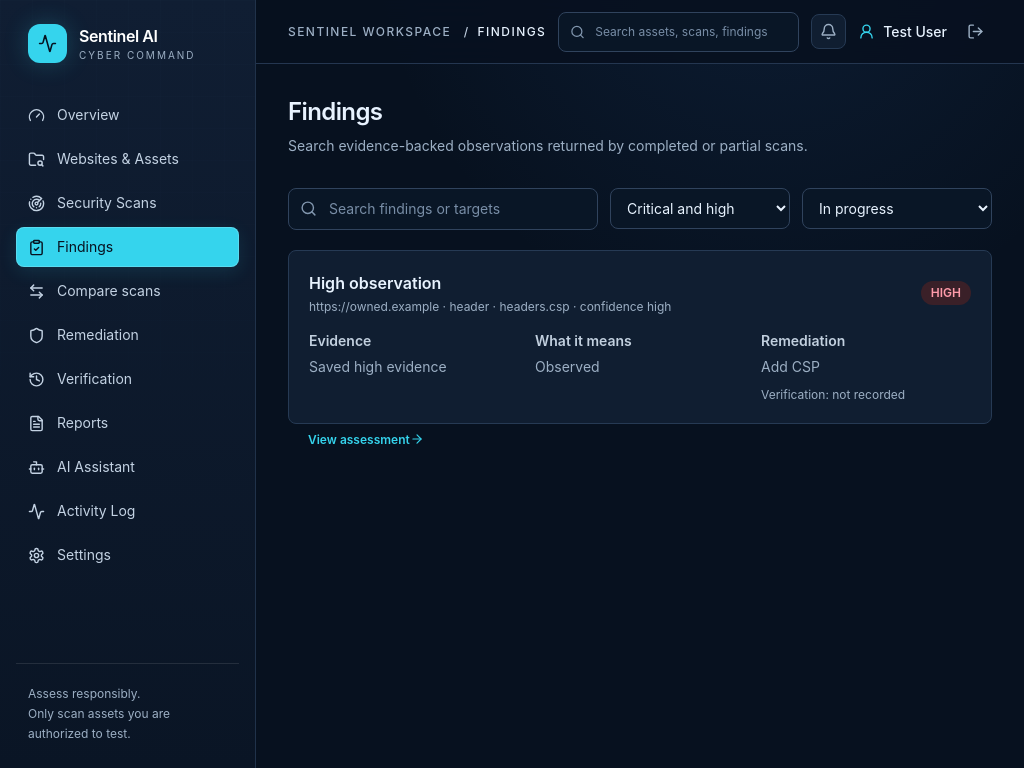
Test: Sentinel AI application shell › applies deep-linked severity and finding lifecycle filters to persisted findings
expect the text "High observation" is shown: met, box x1=309 y1=273 x2=441 y2=293
expect the text "Critical observation" is not shown: met
Select "Open" in the dropdown named "Filter finding status" at (897, 208), box x1=802 y1=188 x2=992 y2=229
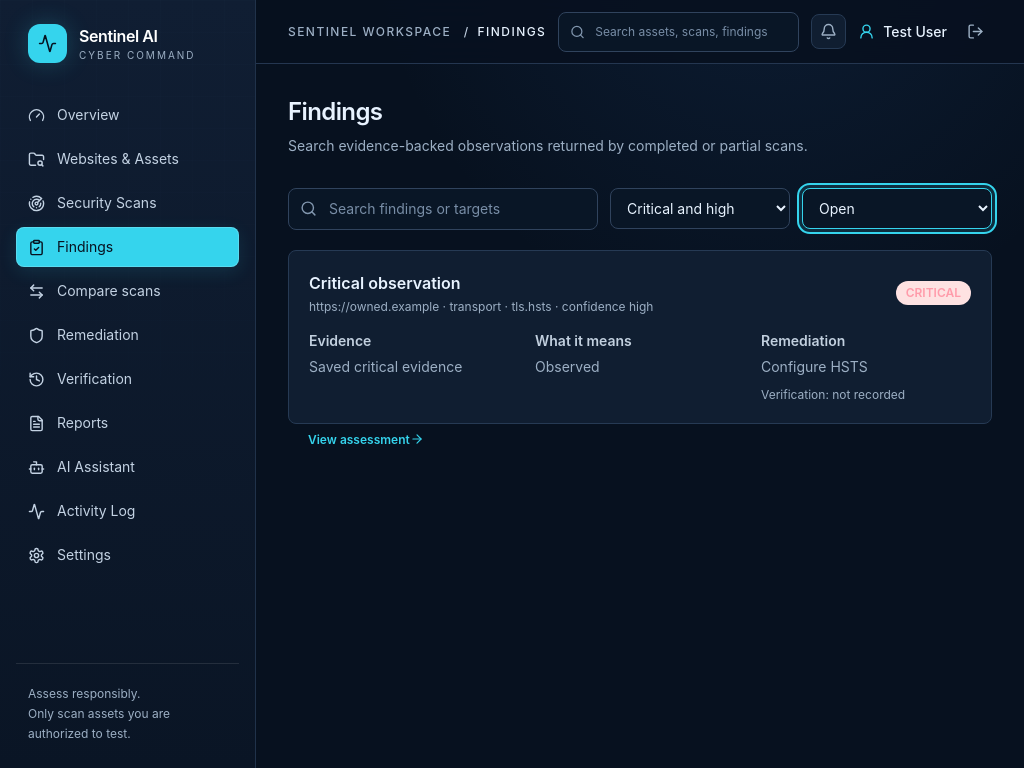
expect the text "Critical observation" is shown: met, box x1=309 y1=273 x2=460 y2=293
expect the text "High observation" is gone: met
